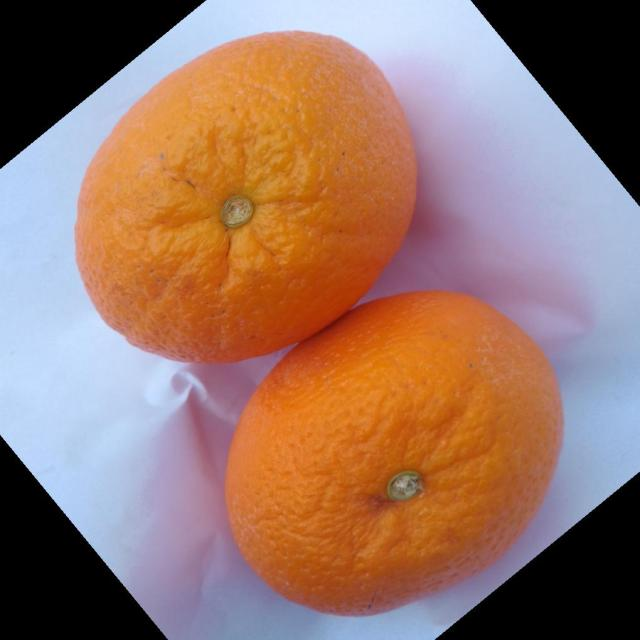fresh orange: (73, 28, 419, 364), (223, 288, 564, 618)
